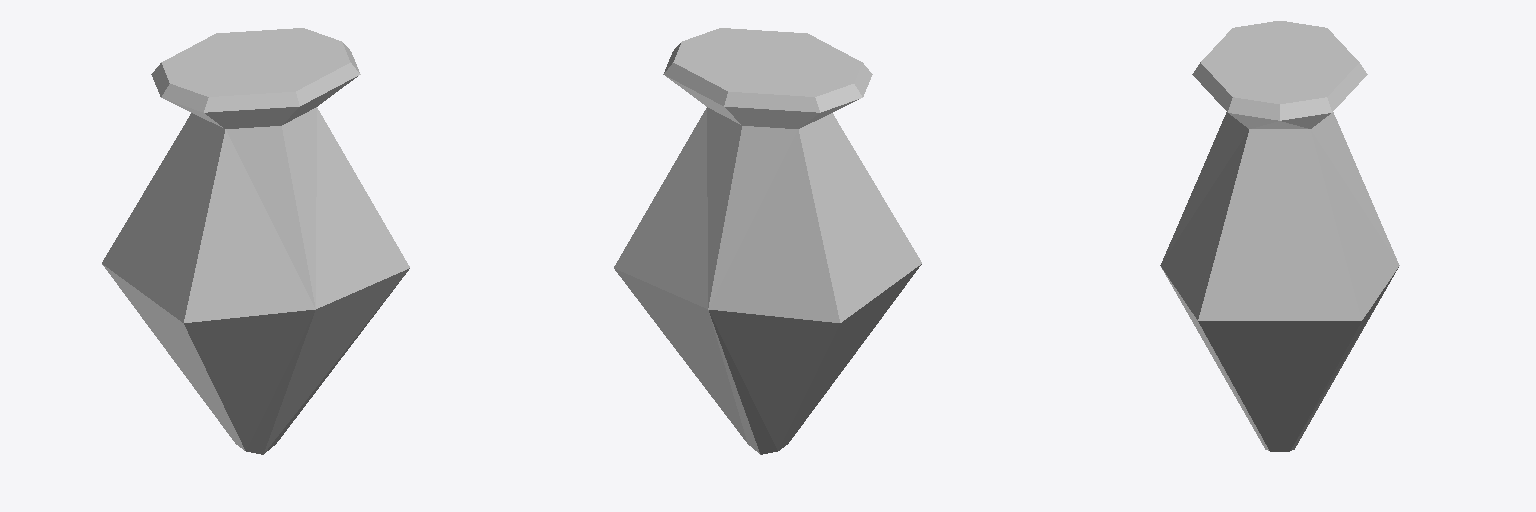
Rendered from cav-sidesword-pommel.obj.
3 views of the same model, side by side, from view 1: azimuth 30°, elevation 25°; view 2: azimuth 150°, elevation 25°; view 3: azimuth 270°, elevation 25° (orthographic).
Bounding box in the file's own units: 1.82 × 2.97 × 1.66.